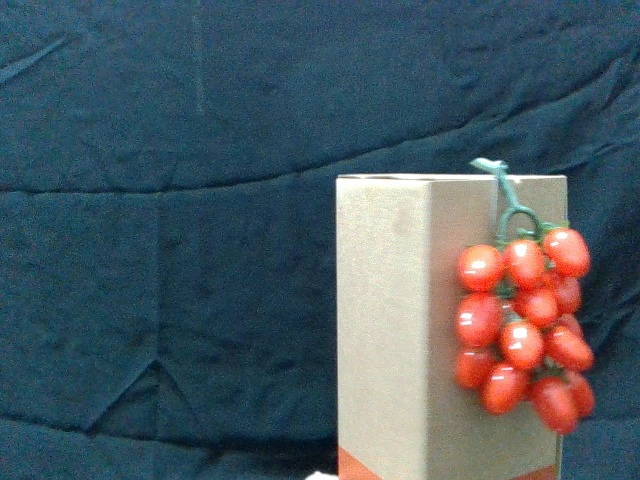tomato: (532, 376, 582, 434), (456, 293, 504, 349), (543, 226, 594, 278), (545, 325, 596, 373), (483, 367, 529, 418), (500, 320, 544, 370), (458, 245, 504, 292), (453, 346, 498, 391), (517, 283, 558, 331), (506, 241, 546, 289), (546, 269, 582, 315)
